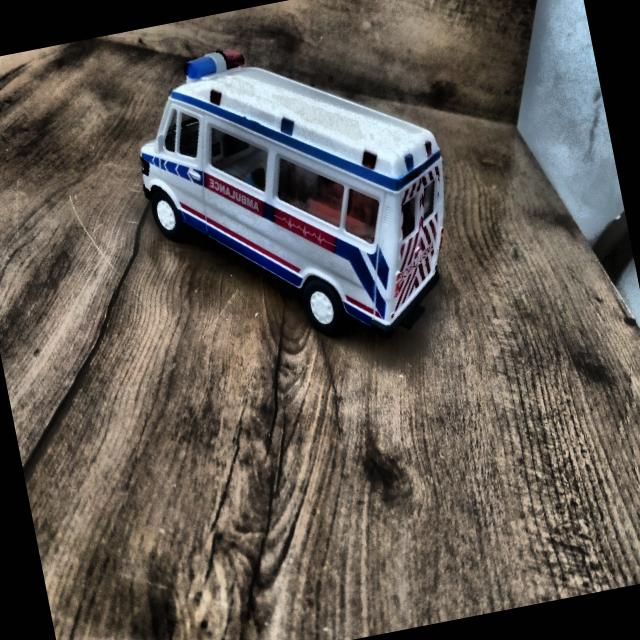Ambulance: (72, 0, 510, 393)
